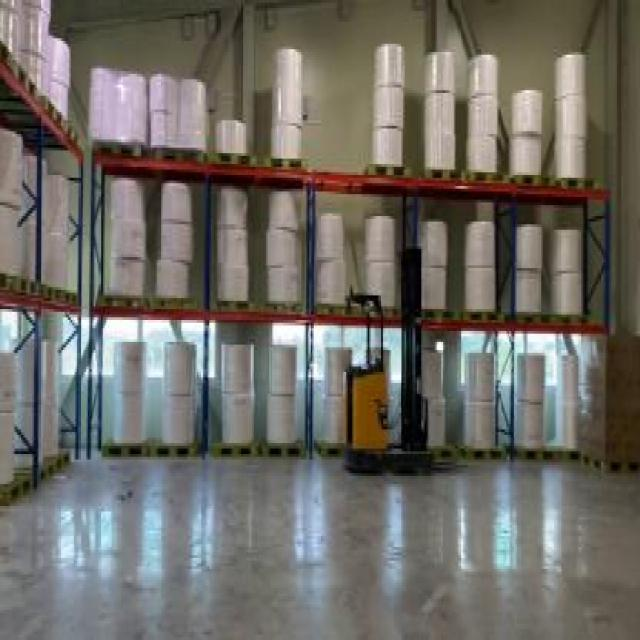box: (578, 334, 638, 481)
robot: (336, 287, 446, 479)
white_roll: (116, 331, 578, 459), (368, 41, 602, 191), (89, 38, 309, 175), (211, 186, 311, 312), (1, 128, 76, 292), (108, 175, 198, 309), (1, 326, 62, 500), (0, 3, 80, 134), (314, 210, 398, 312), (416, 216, 496, 317), (511, 224, 586, 326)
